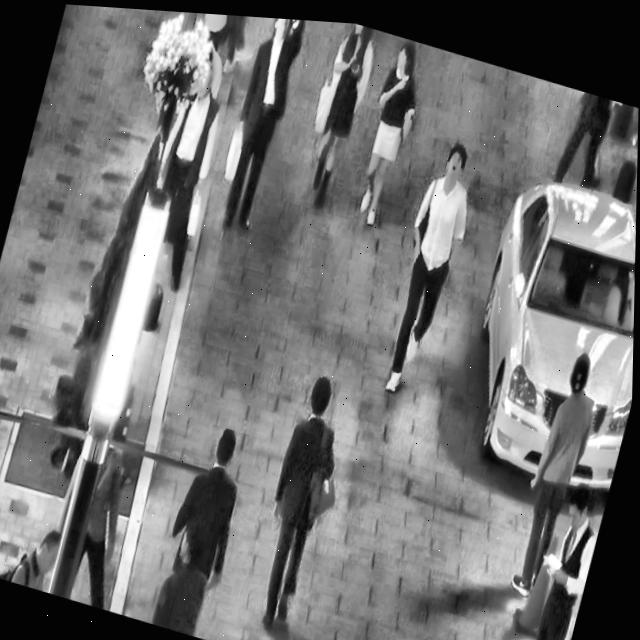light_vehicle: (439, 136, 638, 501)
